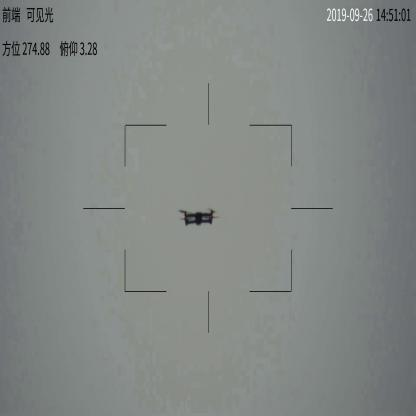uav: (175, 208, 220, 231)
